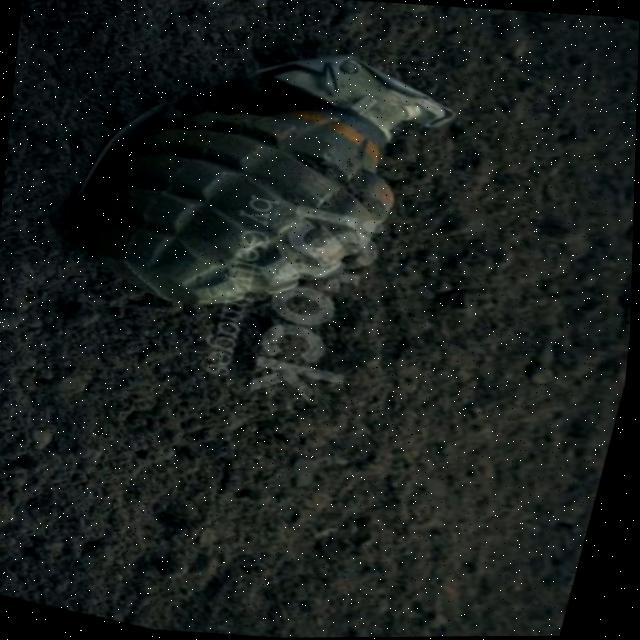grenade: (25, 0, 476, 361)
